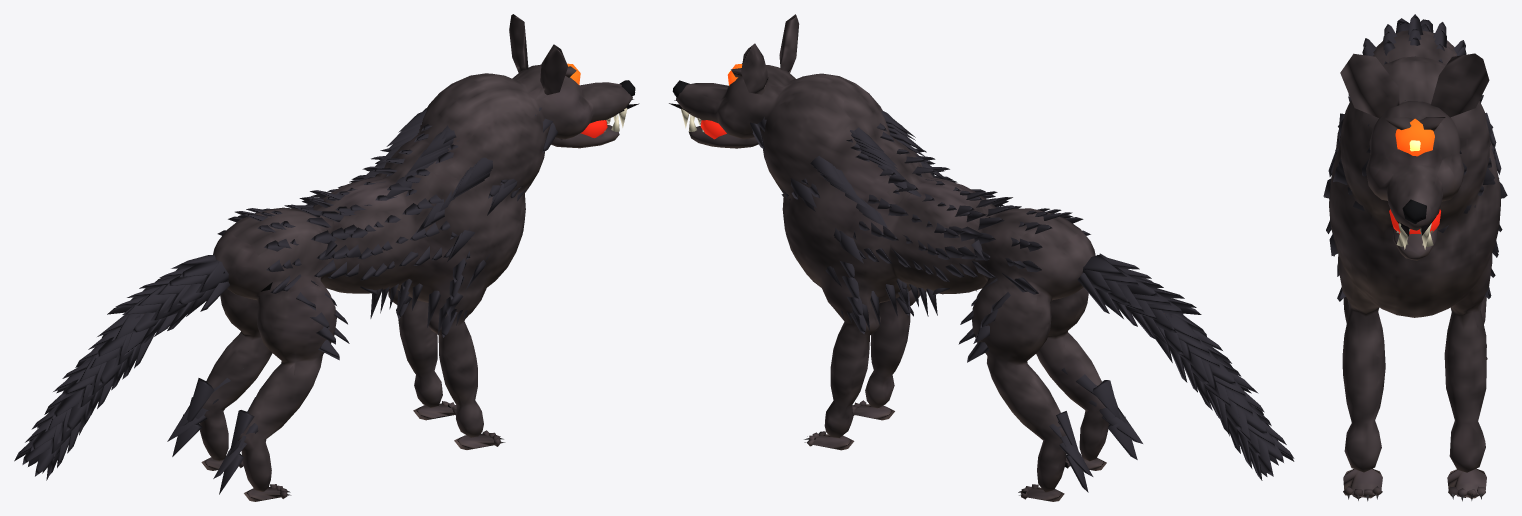
File: black-shuck.glb
The picture shows the model from 3 angles, left to right: view 1: azimuth 30°, elevation 25°; view 2: azimuth 150°, elevation 25°; view 3: azimuth 270°, elevation 25°; orthographic projection. The views are drawn at different scales.
Visible parts, largest first — view 1: black-shuck.001; view 2: black-shuck.001; view 3: black-shuck.001.
Part boxes in pixels (x1,y1,x2,y2): black-shuck.001: [14, 14, 639, 501]; black-shuck.001: [669, 14, 1294, 501]; black-shuck.001: [1323, 14, 1507, 501].
Bounding box in the file's own units: 2.66 × 1.56 × 0.538.
9 materials, 1 textured.
